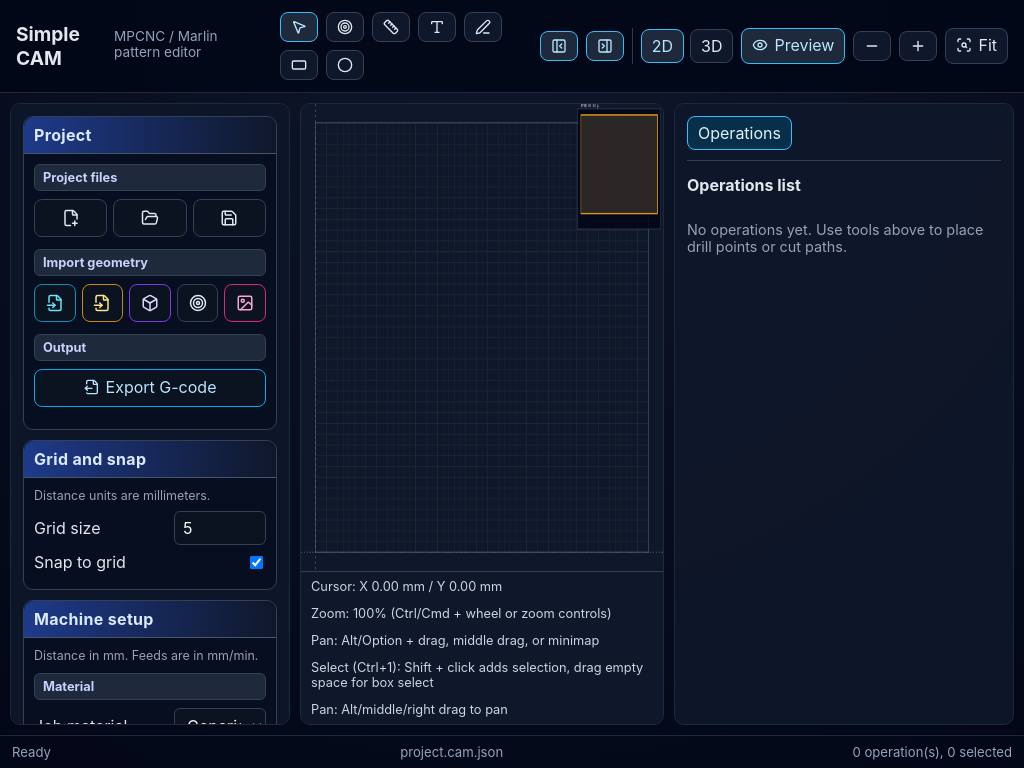
App › prompts for the import cut mode after selecting an SVG file
This screenshot has width=1024, height=768.
Step 1. Click the button named "Import SVG" → (55, 303), box x1=34 y1=284 x2=76 y2=322
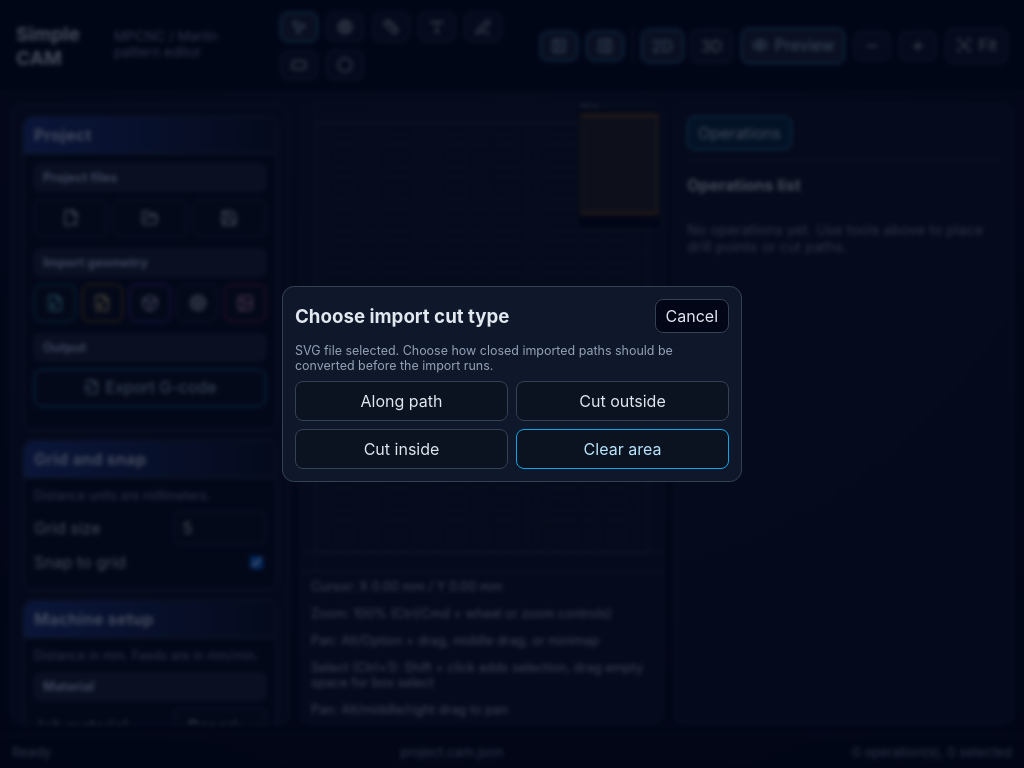
Expected: the dialog "Choose import cut type" is shown, x1=282 y1=286 x2=742 y2=482
Step 2. Click the button "Cut outside" → (622, 401), box x1=516 y1=381 x2=729 y2=421
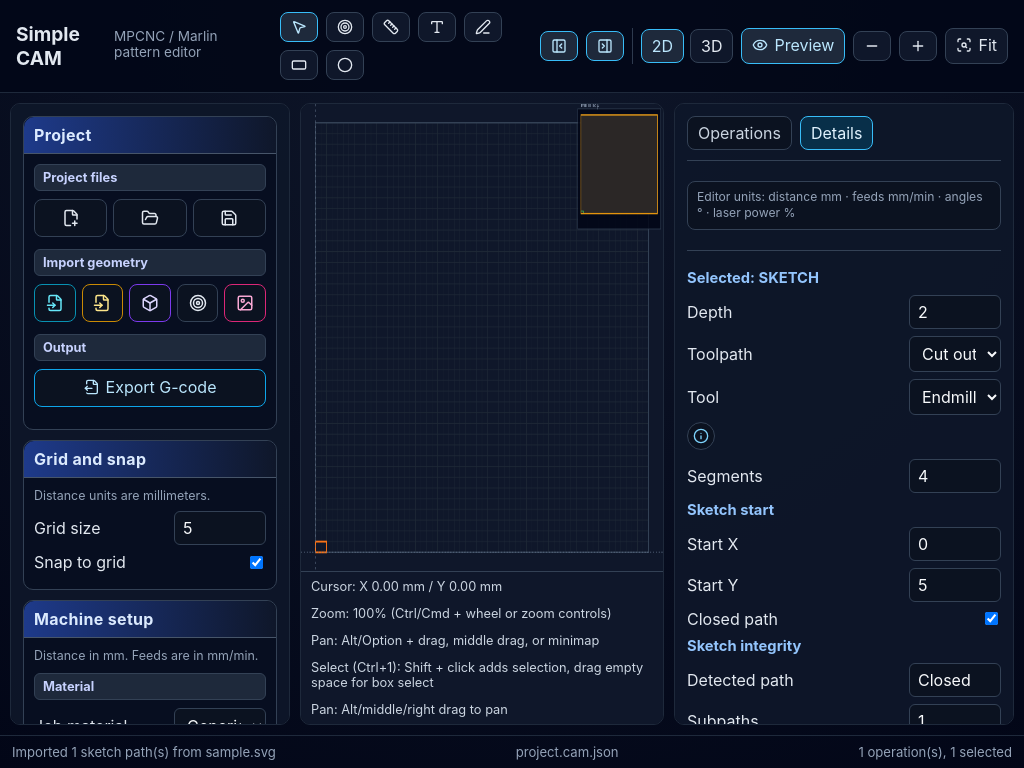
Expected: the heading "Choose import cut type" is gone
Expected: the text "Imported 1 sketch path(s) from sample.svg" is shown, x1=12 y1=744 x2=276 y2=760
